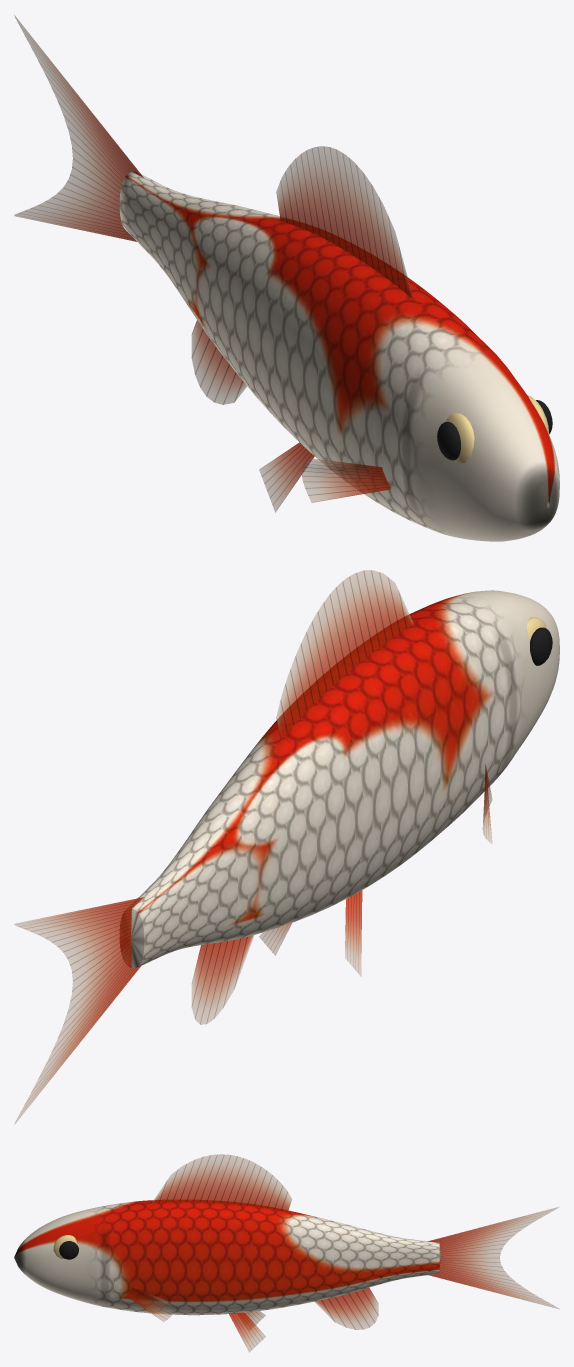
File: wakin_1.glb
3 views of the same model, one above another, from view 1: azimuth 30°, elevation 25°; view 2: azimuth 150°, elevation 25°; view 3: azimuth 270°, elevation 25° (orthographic). The views are drawn at different scales.
Parts seen in each view (by area): view 1: body, fins, iris, pupil; view 2: body, fins, pupil; view 3: body, fins, pupil.
Boxes of the visible parts, left/top/right/bottom form: body: left=119, top=172, right=559, bottom=541; fins: left=14, top=15, right=413, bottom=512; iris: left=446, top=395, right=549, bottom=463; pupil: left=437, top=400, right=552, bottom=460; body: left=120, top=590, right=559, bottom=968; fins: left=14, top=570, right=492, bottom=1124; pupil: left=530, top=627, right=552, bottom=665; body: left=14, top=1200, right=440, bottom=1315; fins: left=126, top=1154, right=559, bottom=1352; pupil: left=59, top=1241, right=78, bottom=1259.
Size of the model in its own units: 0.1914 by 0.3716 by 0.98.
4 materials, 2 textured.
